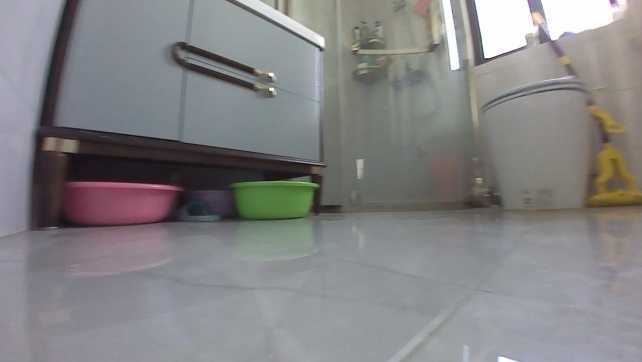toilet: (474, 68, 597, 215)
washstand: (30, 0, 327, 231)
